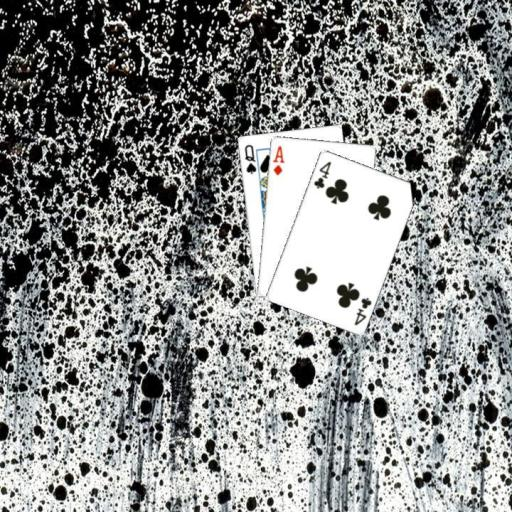4C: (351, 294, 373, 326), (311, 158, 332, 190)
AD: (269, 143, 286, 177)
QS: (241, 141, 257, 175)
